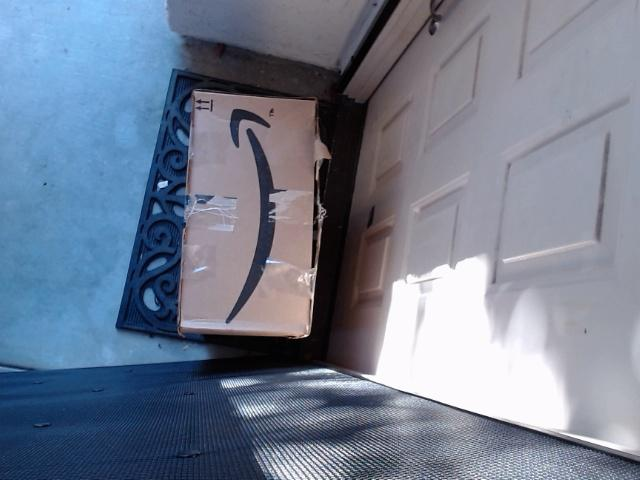box: (123, 73, 357, 351)
